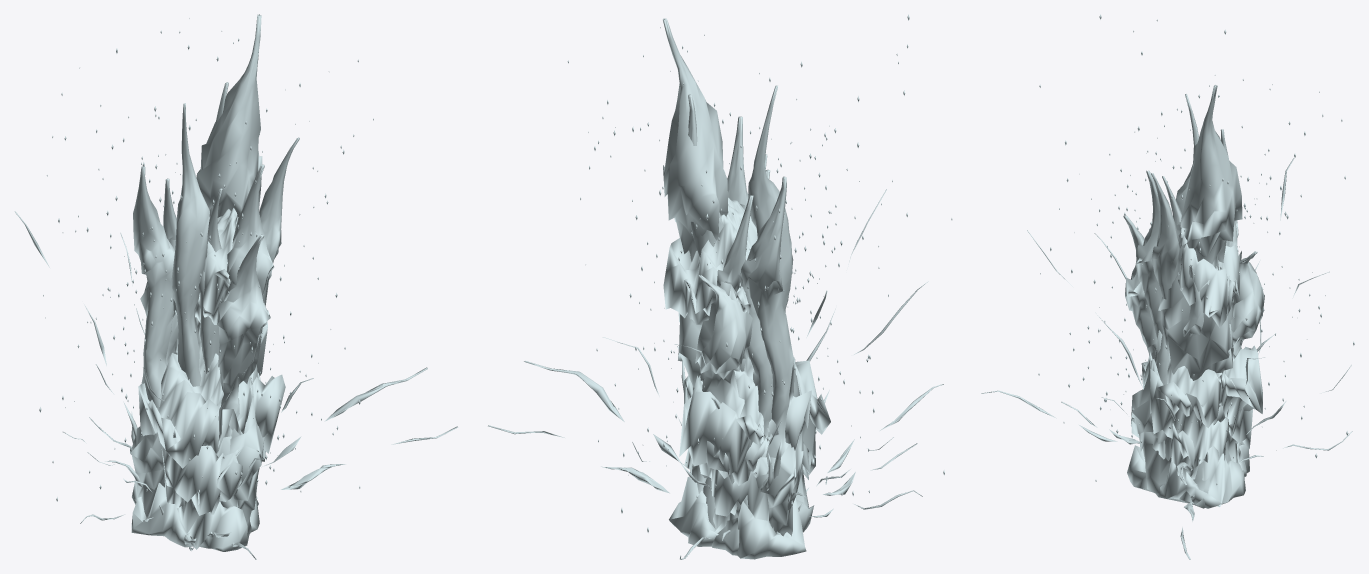
File: frayed-peak.glb
3 renders of one model, left to right at view 1: azimuth 30°, elevation 25°; view 2: azimuth 150°, elevation 25°; view 3: azimuth 270°, elevation 25°, orthographic. The views are drawn at different scales.
Parts seen in each view (by area): view 1: Shell water / deforming core, jets and drops; view 2: Shell water / deforming core, jets and drops; view 3: Shell water / deforming core, jets and drops.
Part boxes in pixels (x1,y1,x2,y2): Shell water / deforming core, jets and drops: (14, 14, 457, 559); Shell water / deforming core, jets and drops: (488, 14, 952, 559); Shell water / deforming core, jets and drops: (981, 14, 1354, 559).
Size of the model in its own units: 0.8281 by 0.9112 by 0.7205.
